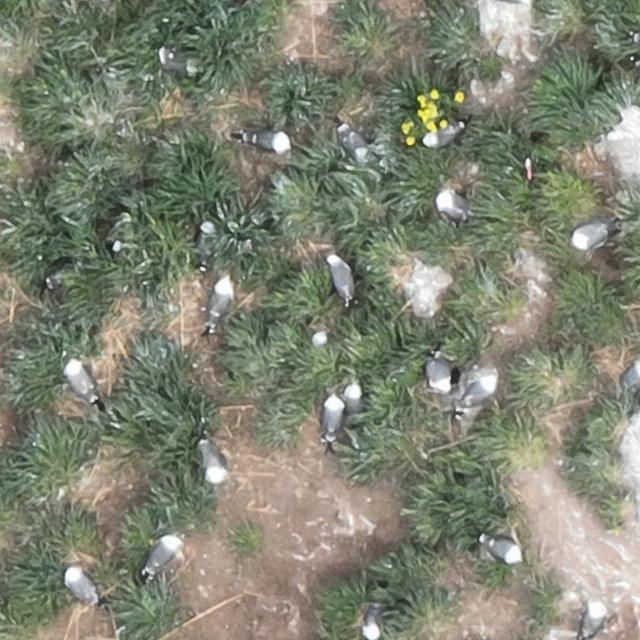umineko: (459, 374, 497, 415), (570, 221, 615, 251), (148, 535, 179, 571), (66, 570, 98, 603), (427, 353, 452, 395), (65, 362, 92, 398), (329, 256, 352, 297), (247, 131, 289, 151), (488, 538, 522, 562), (203, 445, 225, 482), (342, 384, 362, 424), (323, 396, 342, 434), (212, 282, 232, 318), (344, 128, 366, 159), (582, 606, 602, 638), (424, 128, 455, 146), (441, 194, 466, 216), (364, 607, 382, 637), (622, 361, 640, 389), (311, 331, 335, 346)
